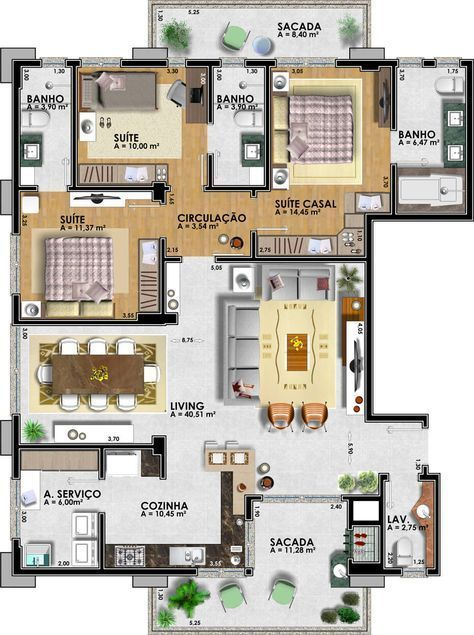wall: (366, 213, 370, 421), (13, 67, 18, 233), (467, 61, 472, 218), (217, 257, 370, 262), (15, 569, 195, 572), (367, 215, 471, 220), (14, 444, 155, 447), (73, 59, 76, 188), (265, 61, 268, 190), (15, 320, 142, 323), (138, 314, 176, 323), (161, 238, 165, 315), (13, 417, 18, 477), (434, 475, 437, 575), (348, 564, 381, 573), (69, 187, 167, 190), (391, 61, 395, 130), (389, 59, 393, 128), (379, 476, 382, 564), (369, 416, 421, 421), (336, 61, 395, 65), (121, 61, 167, 66), (391, 168, 395, 219), (187, 60, 218, 66), (209, 61, 212, 123), (205, 187, 266, 190), (154, 182, 164, 200), (100, 512, 103, 572), (349, 570, 399, 573), (155, 436, 164, 452), (208, 156, 212, 189), (100, 446, 104, 478), (348, 497, 380, 501), (349, 521, 381, 525), (161, 436, 164, 477), (14, 540, 18, 569), (14, 296, 18, 323), (251, 231, 255, 257), (14, 61, 39, 65), (246, 494, 250, 518), (348, 497, 351, 527), (15, 186, 36, 190), (245, 62, 273, 65), (161, 257, 179, 261), (420, 475, 438, 479), (66, 61, 80, 66), (246, 495, 260, 499)
